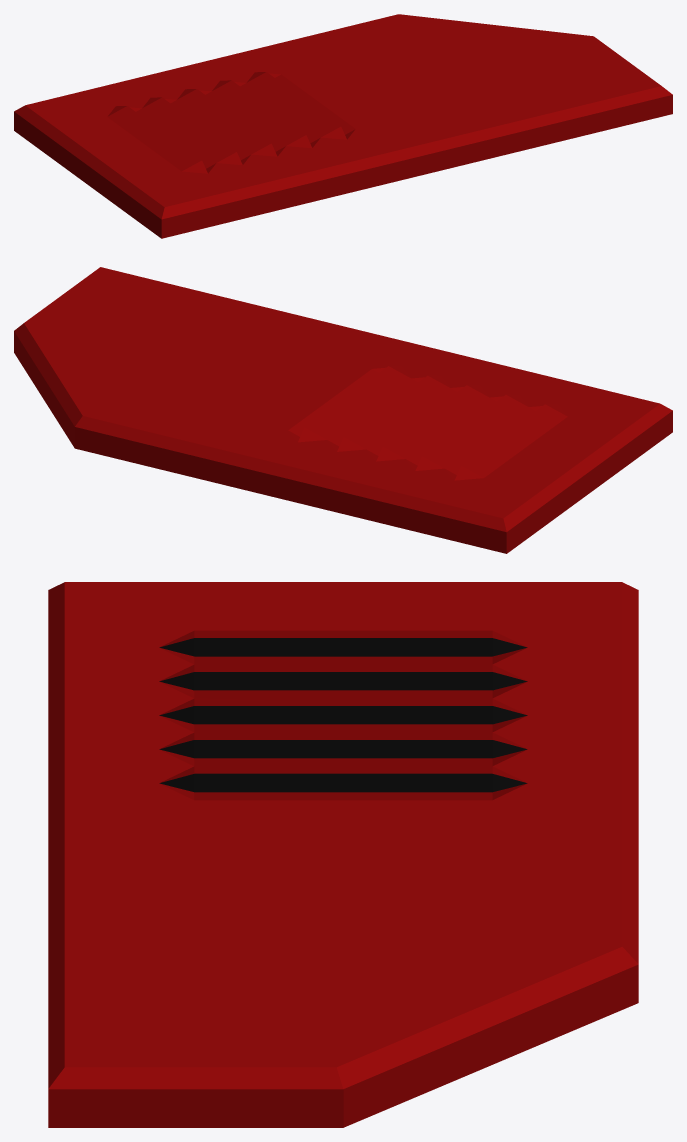
Rendered from SM_Shutter.fbx.
The picture shows the model from 3 angles, top to bottom: view 1: azimuth 30°, elevation 25°; view 2: azimuth 150°, elevation 25°; view 3: azimuth 270°, elevation 25°; orthographic projection. The views are drawn at different scales.
Parts seen in each view (by area): view 1: group_0.004; view 2: group_0.004; view 3: group_0.004.
Part boxes in pixels (x1=…): group_0.004: x1=14, y1=14, x2=672, y2=238; group_0.004: x1=14, y1=267, x2=672, y2=553; group_0.004: x1=48, y1=582, x2=638, y2=1127.
Size of the model in its own units: 200 by 12.3 by 100.
